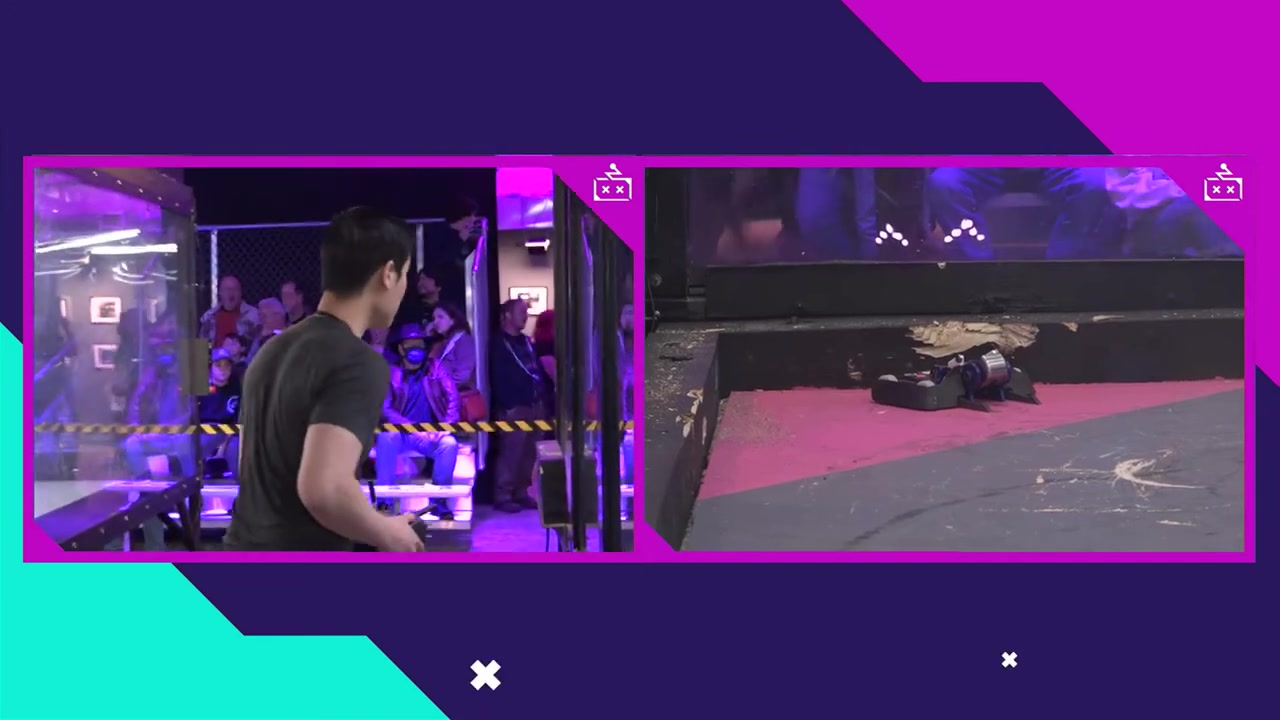combatbot: (873, 343, 1041, 407)
